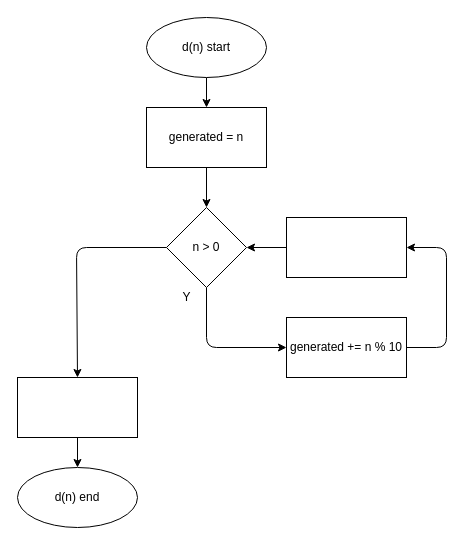
Some shapes in this 472 by 545 pixel diagram are drawn without their labels. The centre of each missing label's shape, as x and y in pixels:
"n //= 10" belongs at (346,247).
"return generated" belongs at (77,407).
